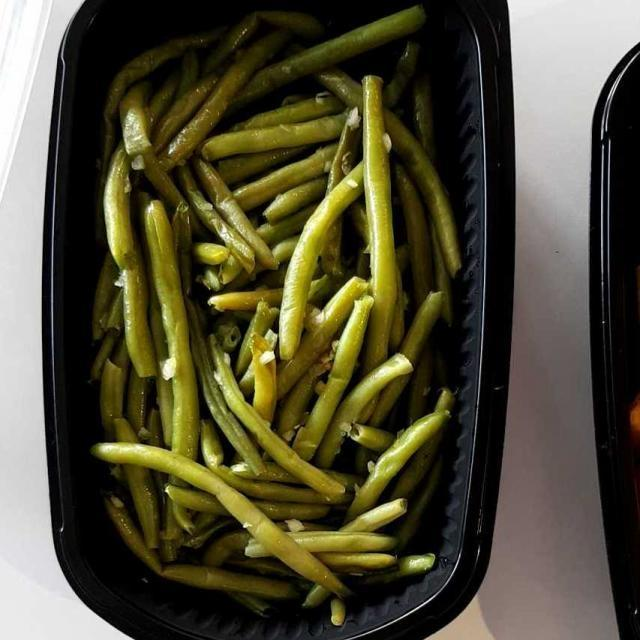beans: (96, 20, 459, 605)
